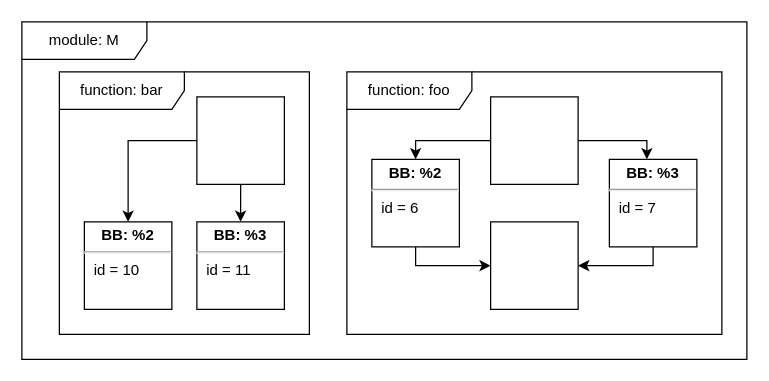
This 769x381 diagram has some shape labels left out. The shapes that lost their labels are listed below. From the top down, each one's centre as x and y in pixels, then its label:
At point 240,140: "BB: %1 id = 9".
At point 533,140: "BB: %1 id = 5".
At point 533,265: "BB: %4 id = 8".
